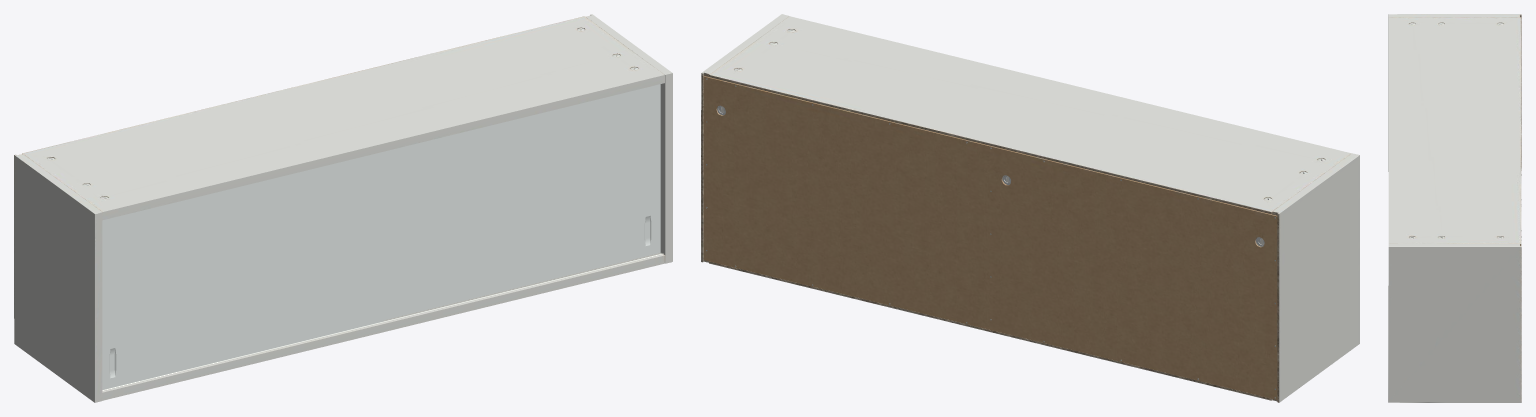
The model's file is knoxhult_szafka_scienna_z_przesuw_drzwiami_80604020.glb.
3 renders of one model, left to right at view 1: azimuth 30°, elevation 25°; view 2: azimuth 150°, elevation 25°; view 3: azimuth 270°, elevation 25°, orthographic. The views are drawn at different scales.
Visible parts, largest first — view 1: knoxhult_szafka_scienna_z_przesuw_drzwiami_80604020; view 2: knoxhult_szafka_scienna_z_przesuw_drzwiami_80604020; view 3: knoxhult_szafka_scienna_z_przesuw_drzwiami_80604020.
Boxes of the visible parts, x1,y1,x2,y2 form: knoxhult_szafka_scienna_z_przesuw_drzwiami_80604020: [14, 14, 672, 402]; knoxhult_szafka_scienna_z_przesuw_drzwiami_80604020: [701, 14, 1359, 402]; knoxhult_szafka_scienna_z_przesuw_drzwiami_80604020: [1388, 14, 1521, 402].
Bounding box in the file's own units: 1.2 × 0.3754 × 0.2905.
Materials: 2 (2 with a texture image).
